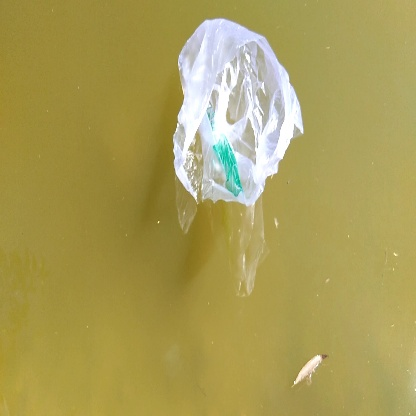plastic-bag: (168, 16, 305, 207)
